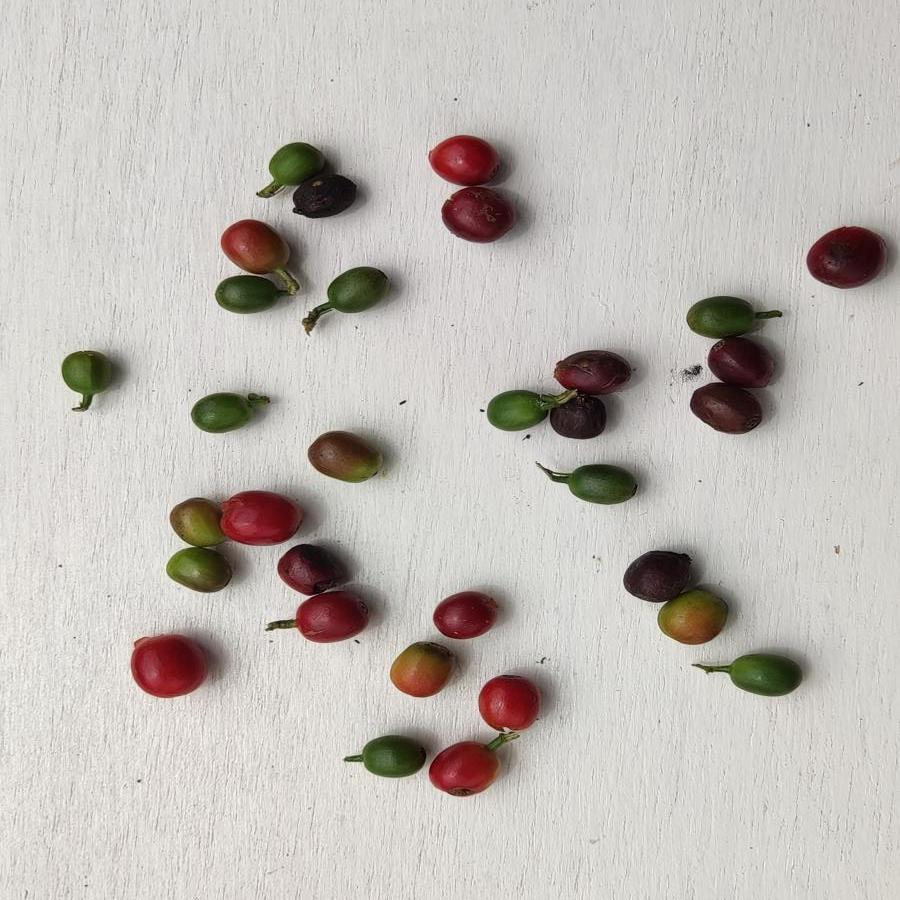Inmaduro: (560, 459, 644, 507), (724, 650, 804, 697), (323, 263, 392, 315), (682, 293, 757, 337), (484, 385, 547, 434), (191, 389, 254, 436), (359, 735, 425, 777), (211, 274, 280, 314), (61, 349, 117, 397), (266, 140, 321, 182)
Maduro: (130, 631, 211, 698), (289, 592, 374, 650), (221, 489, 305, 544), (425, 132, 506, 186), (429, 740, 501, 800), (477, 672, 541, 735)
Pinton: (306, 429, 385, 488), (657, 589, 728, 648), (386, 641, 458, 698), (221, 219, 292, 271), (165, 546, 236, 595), (168, 492, 226, 548)
Sobremaduro: (803, 224, 889, 289), (437, 183, 517, 245), (688, 381, 763, 433), (707, 339, 776, 391), (429, 590, 499, 640), (277, 543, 347, 592), (553, 349, 631, 392), (622, 551, 689, 599), (290, 175, 357, 220), (549, 392, 607, 440)
